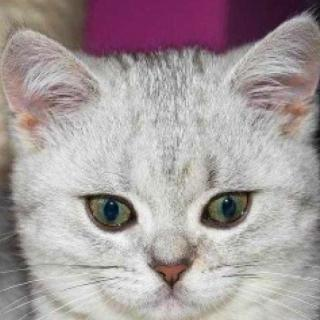cat: (3, 19, 320, 320)
nose: (140, 223, 206, 294)
